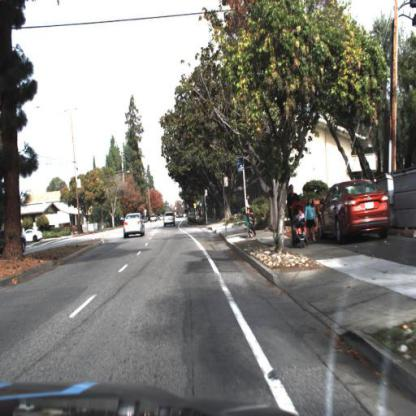car: (315, 182, 392, 244), (122, 213, 147, 241), (21, 226, 44, 245), (24, 229, 45, 247), (164, 211, 178, 229)
pedestrian: (287, 184, 305, 249), (304, 196, 318, 244), (245, 205, 263, 240), (244, 209, 258, 238), (243, 189, 253, 209)
